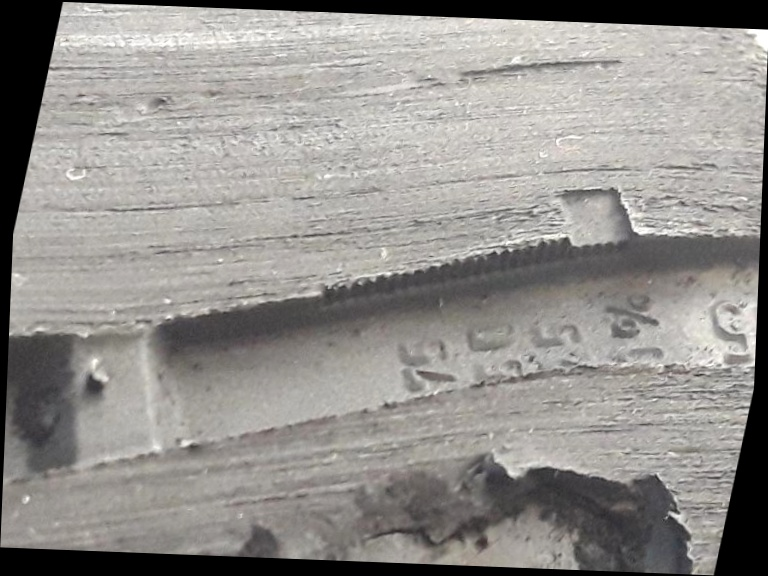temoin:0: (519, 162, 663, 301)
